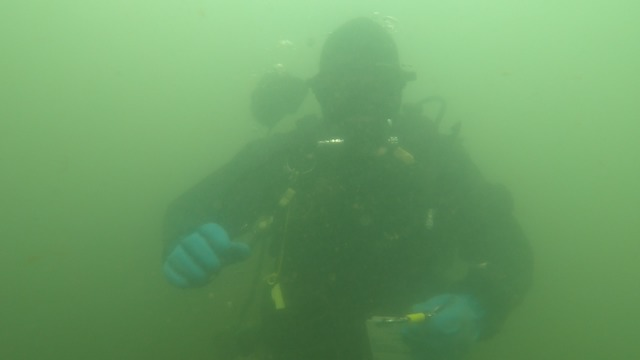Diver: (138, 19, 537, 355)
Hand: (161, 222, 250, 287), (405, 285, 493, 348)
Head: (309, 16, 415, 160)
